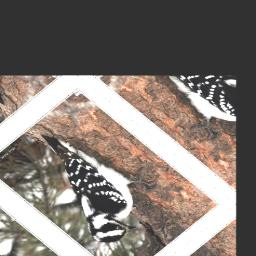Woodpecker: (0, 111, 172, 250)
